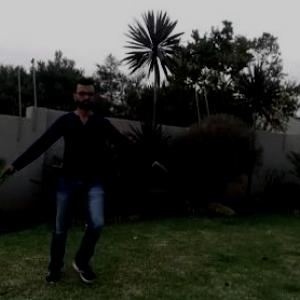land: (23, 82, 163, 255)
